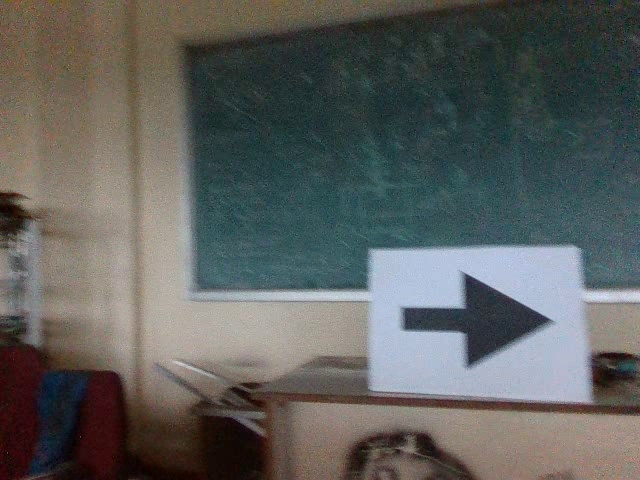Right: (391, 261, 558, 379)
